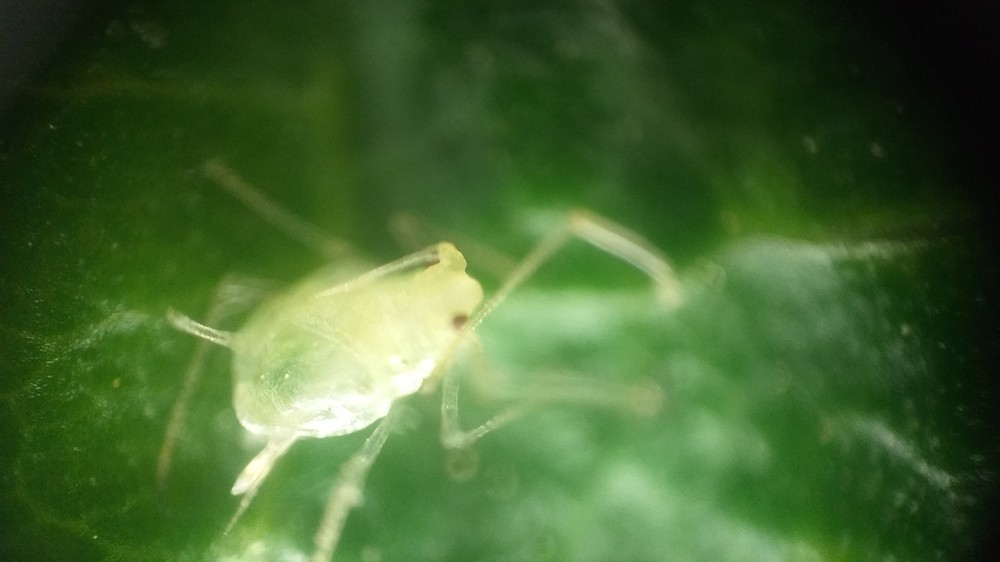Pulgon: (163, 180, 694, 511)
